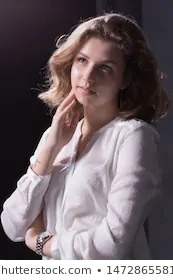S_blouse: (3, 107, 163, 259)
